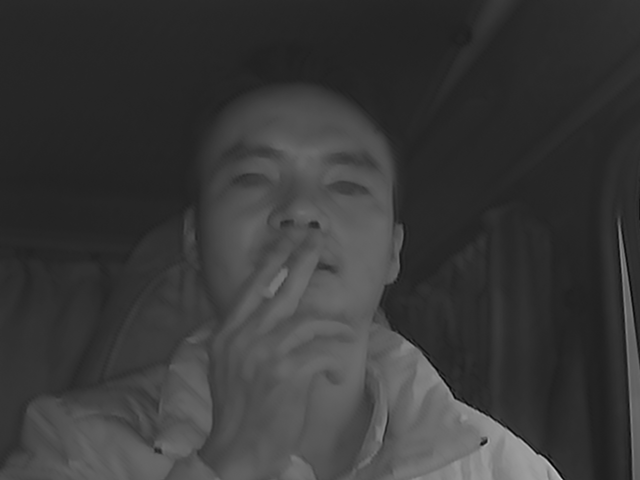hand: (221, 243, 353, 404)
